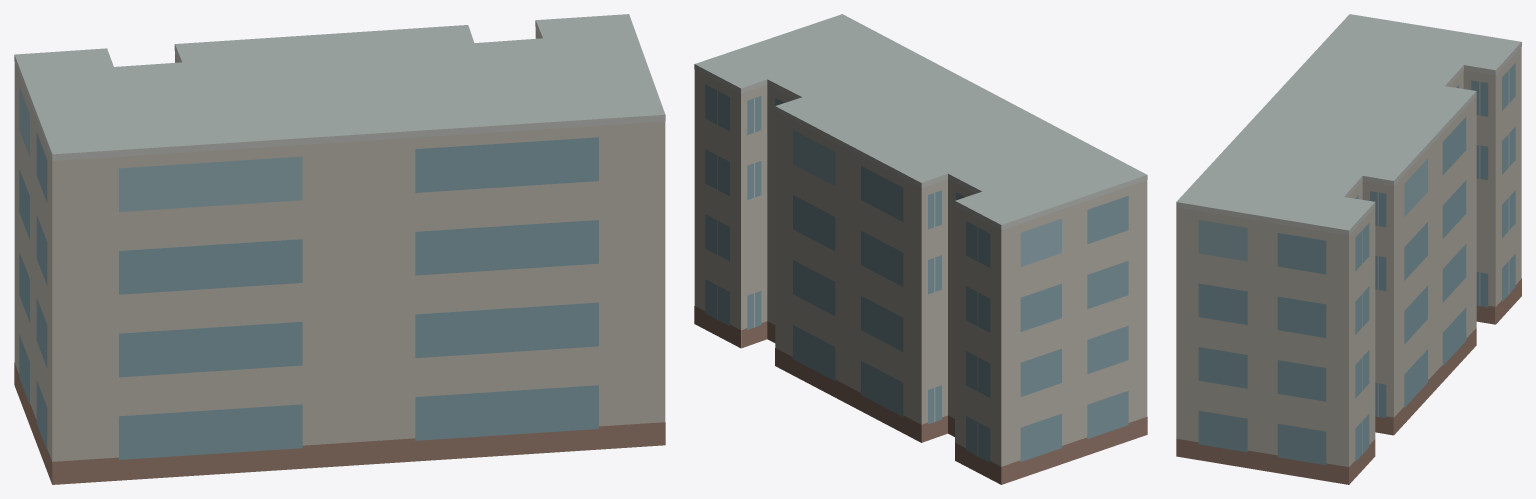
Rendered from survey-upis-32873587.glb.
The picture shows the model from 3 angles, left to right: view 1: azimuth 30°, elevation 25°; view 2: azimuth 150°, elevation 25°; view 3: azimuth 270°, elevation 25°; orthographic projection. The views are drawn at different scales.
Parts seen in each view (by area): view 1: survey-upis-32873587.tmp; view 2: survey-upis-32873587.tmp; view 3: survey-upis-32873587.tmp.
Part boxes in pixels (box(x1,y1,x2,y2)): survey-upis-32873587.tmp: box(14, 14, 665, 484); survey-upis-32873587.tmp: box(694, 14, 1147, 484); survey-upis-32873587.tmp: box(1176, 14, 1521, 484).
Bounding box in the file's own units: 22.28 × 12.2 × 15.03.
